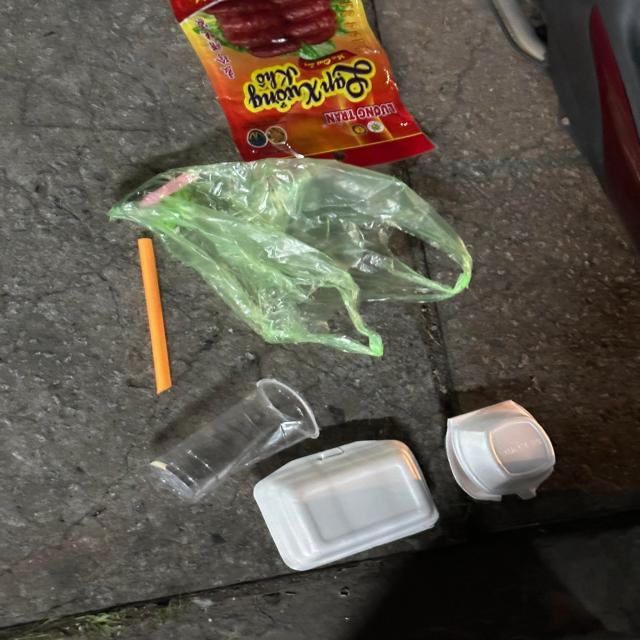bag: (106, 159, 473, 359)
drinking straw: (138, 238, 172, 396)
foam box: (253, 439, 439, 572), (447, 401, 554, 502)
plastic glass: (148, 379, 318, 503)
snack package: (171, 0, 435, 178)
